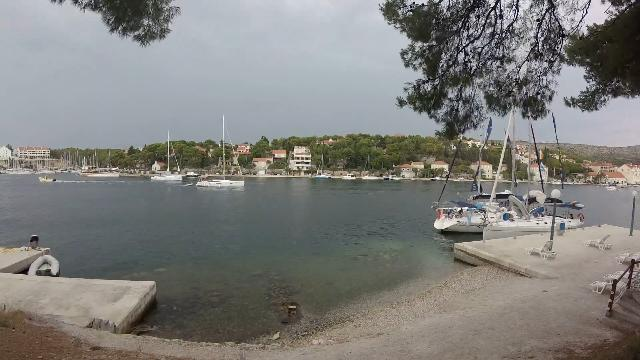Sailboat: (193, 173, 247, 190), (146, 169, 186, 183)
speedboat: (36, 170, 62, 186)
